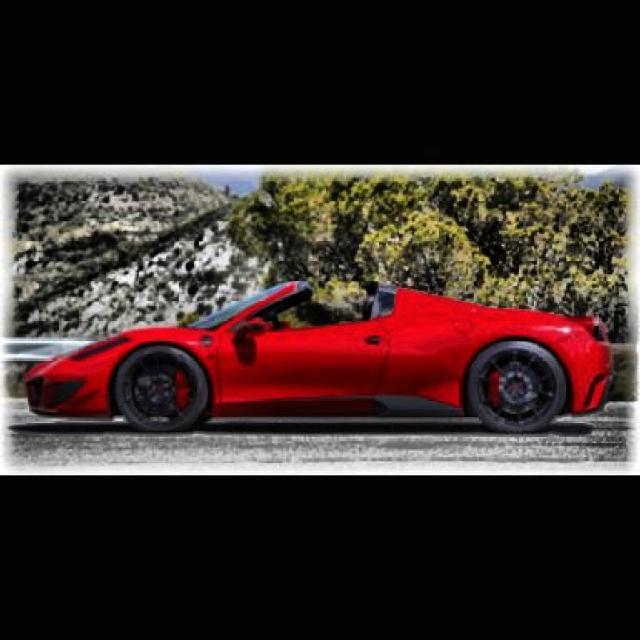red: (38, 259, 630, 453)
